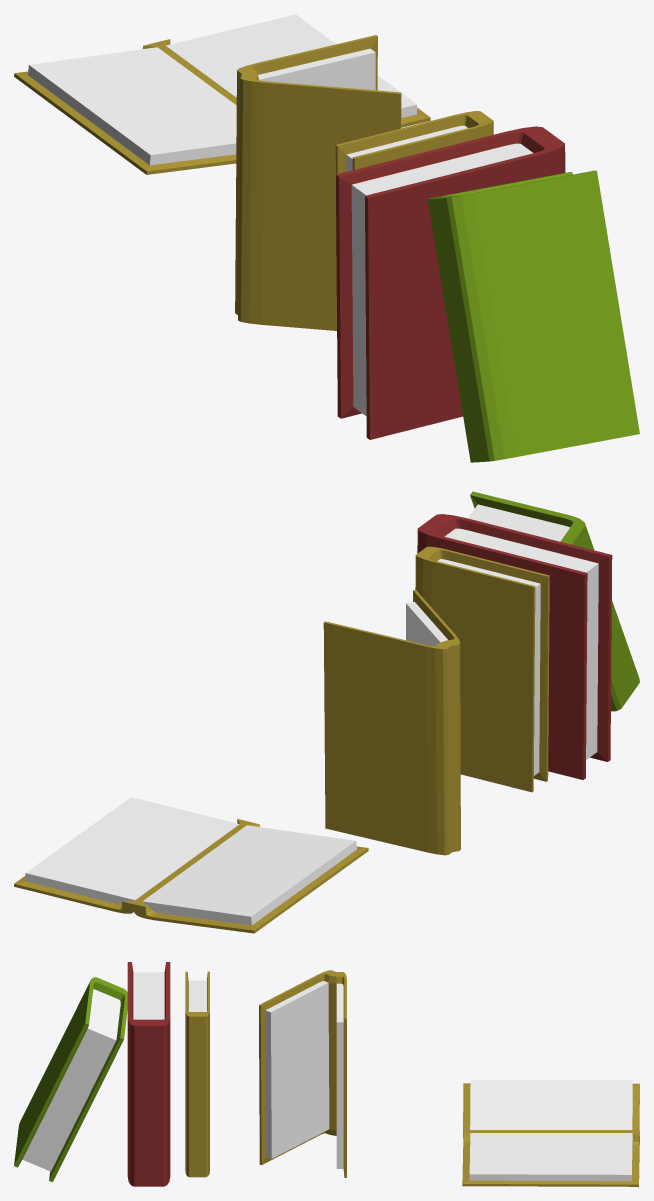
Rendered from книги.fbx.
3 views of the same model, one above another, from view 1: azimuth 30°, elevation 25°; view 2: azimuth 150°, elevation 25°; view 3: azimuth 270°, elevation 25° (orthographic). The views are drawn at different scales.
Visible parts, largest first — view 1: Cube.015, Cube.016, Cube.019, Cube.021, Cube.014; view 2: Cube.019, Cube.021, Cube.014, Cube.016, Cube.015; view 3: Cube.021, Cube.019, Cube.015, Cube.016, Cube.014.
Part boxes in pixels (left/top/right/bottom): Cube.015: left=427, top=170, right=639, bottom=462; Cube.016: left=336, top=126, right=565, bottom=439; Cube.019: left=235, top=35, right=401, bottom=330; Cube.021: left=14, top=14, right=430, bottom=174; Cube.014: left=335, top=111, right=493, bottom=174; Cube.019: left=323, top=590, right=460, bottom=855; Cube.021: left=14, top=797, right=368, bottom=933; Cube.014: left=415, top=546, right=549, bottom=792; Cube.016: left=417, top=514, right=612, bottom=779; Cube.015: left=468, top=491, right=639, bottom=711; Cube.021: left=462, top=1079, right=639, bottom=1186; Cube.019: left=259, top=970, right=346, bottom=1177; Cube.015: left=14, top=977, right=127, bottom=1182; Cube.016: left=127, top=962, right=170, bottom=1186; Cube.014: left=185, top=971, right=209, bottom=1177.
Size of the model in its own units: 75.97 by 57.02 by 196.
